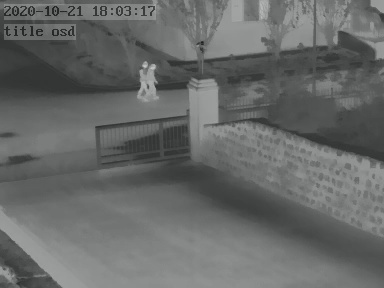person: (146, 63, 161, 100), (137, 59, 149, 99)
